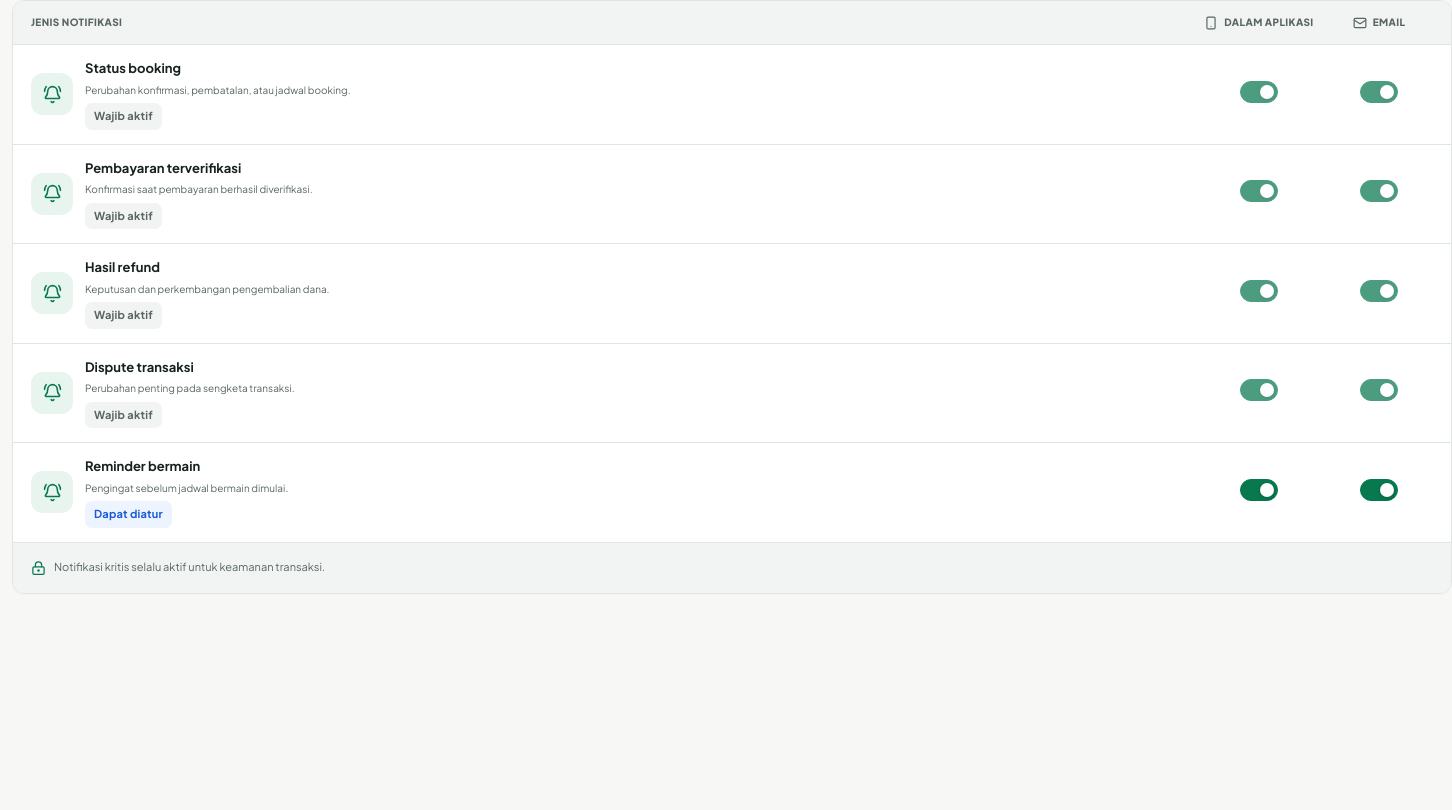
Test: NotificationPreferencesCard › menampilkan error dan mempertahankan state server
Click the checkbox named "Reminder bermain melalui email". click: (1379, 490)
box: [1360, 479, 1398, 501]
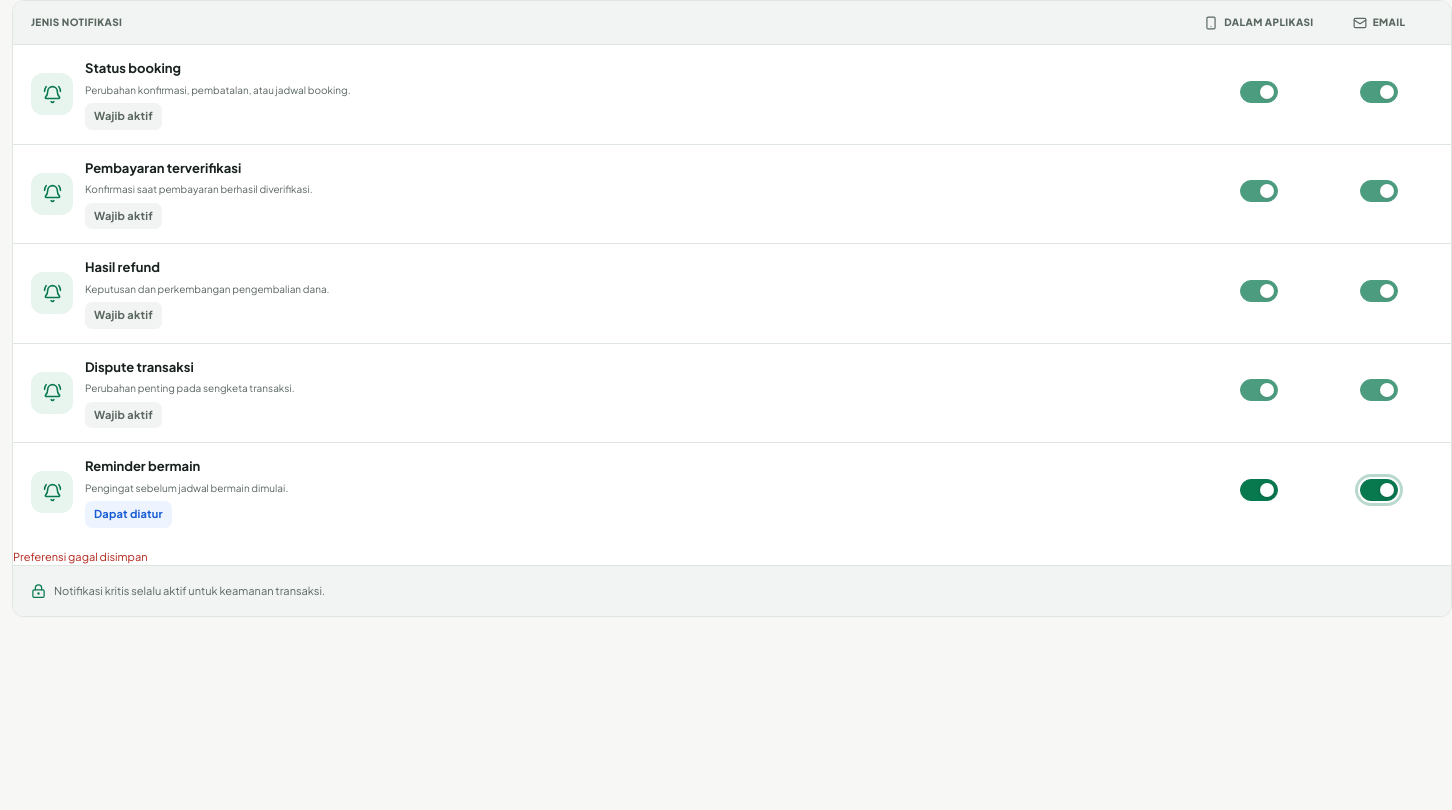
Expected: the message reads "Preferensi gagal disimpan", [13, 550, 148, 562]
